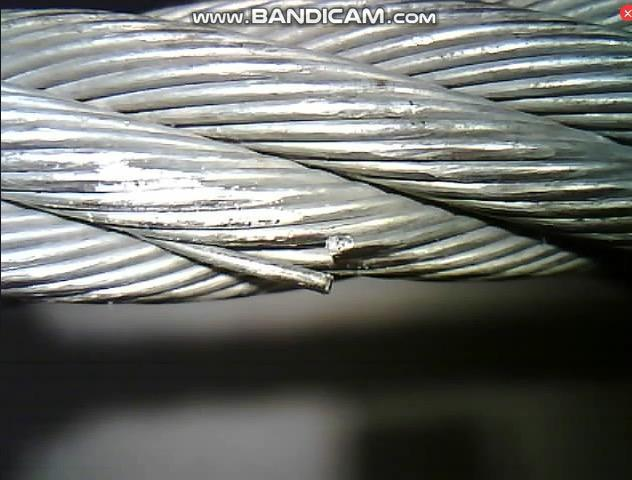break: (225, 224, 368, 294)
